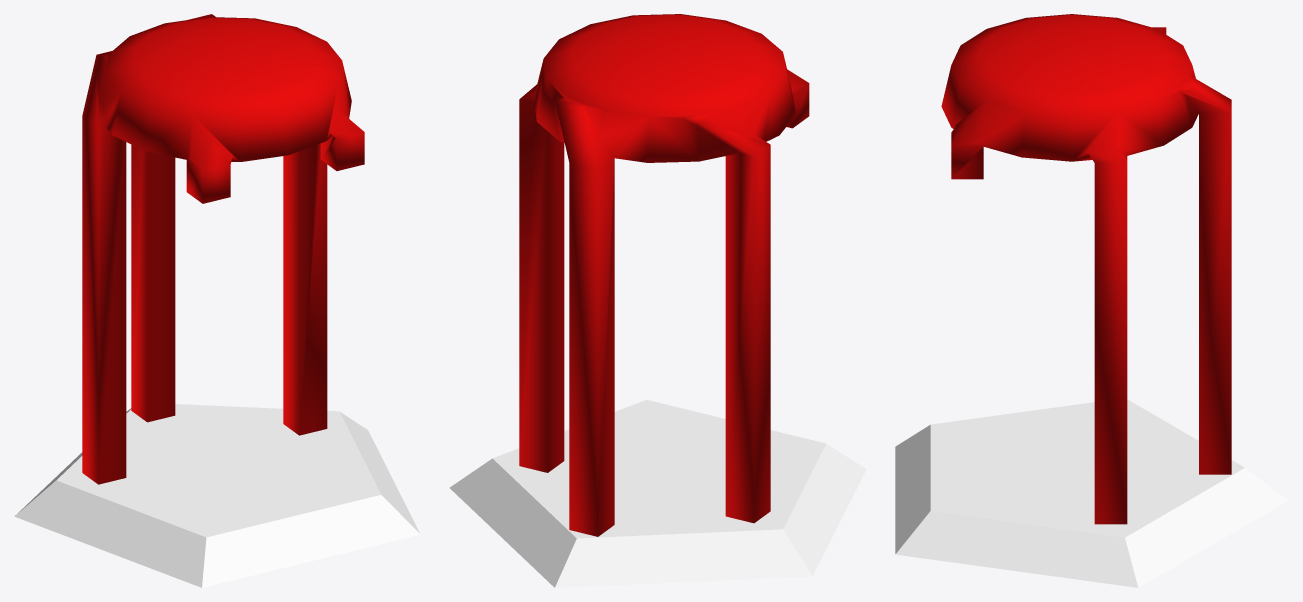
The model's file is Chapter3Teleporter.glb.
3 renders of one model, left to right at view 1: azimuth 30°, elevation 25°; view 2: azimuth 150°, elevation 25°; view 3: azimuth 270°, elevation 25°, orthographic. The views are drawn at different scales.
Parts seen in each view (by area): view 1: Core1, Cylinder.001; view 2: Core1, Cylinder.001; view 3: Core1, Cylinder.001.
Part boxes in pixels (x1,y1,x2,y2): Core1: (82, 14, 364, 484); Cylinder.001: (14, 404, 420, 587); Core1: (519, 14, 809, 536); Cylinder.001: (449, 399, 866, 587); Core1: (941, 14, 1231, 524); Cylinder.001: (895, 399, 1288, 587).
Bounding box in the file's own units: 2.85 × 3.47 × 2.71.
